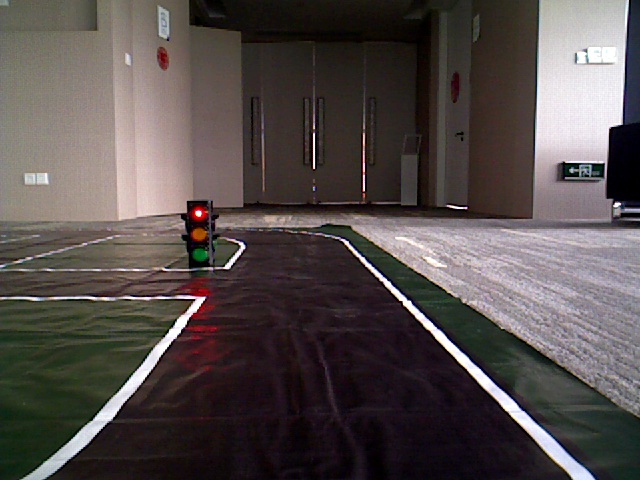red: (187, 199, 208, 265)
